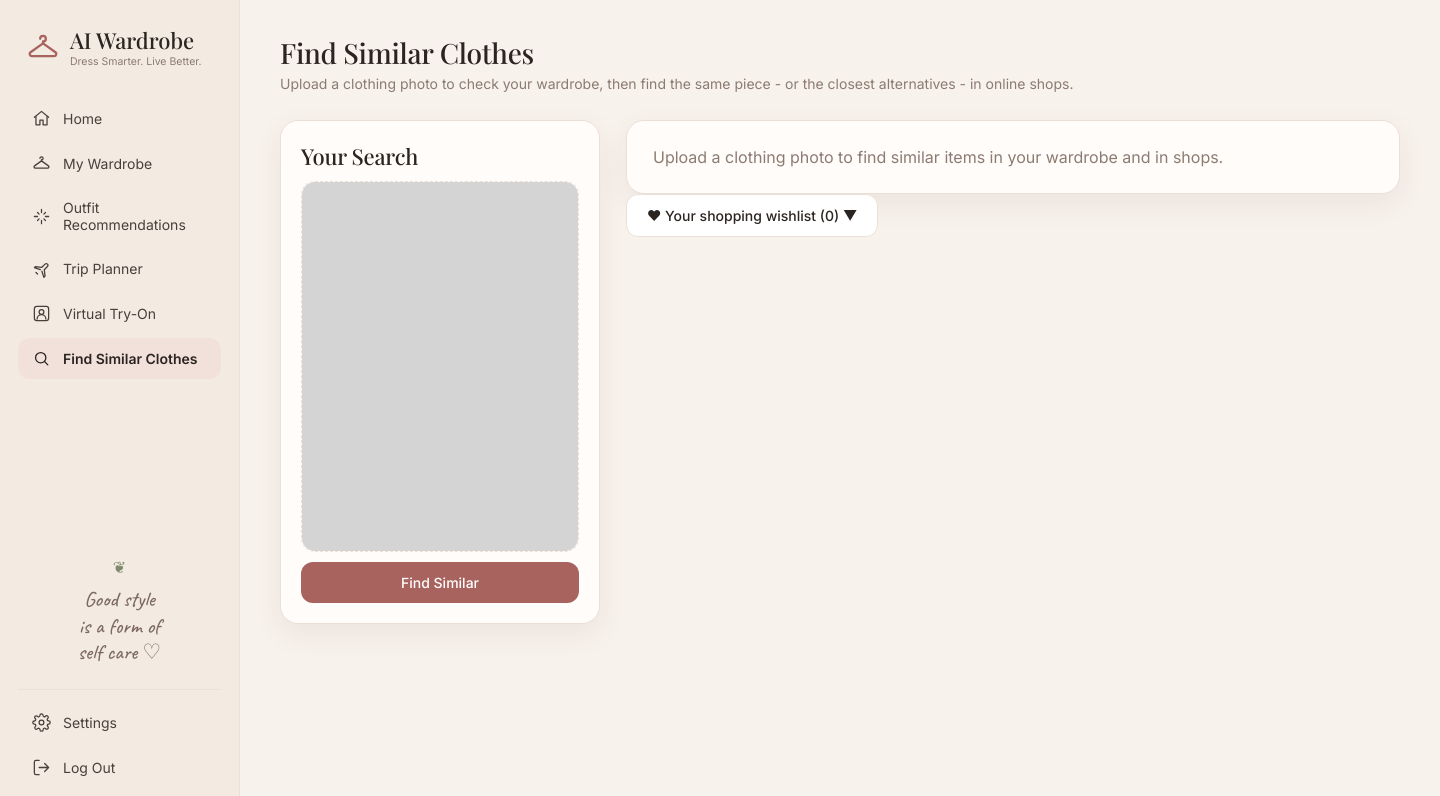
Test: no product search available: shop links instead of fake products
Earlier steps of the test are not shown.
Click the button "Find Similar" at (440, 582), box [301, 562, 579, 603]
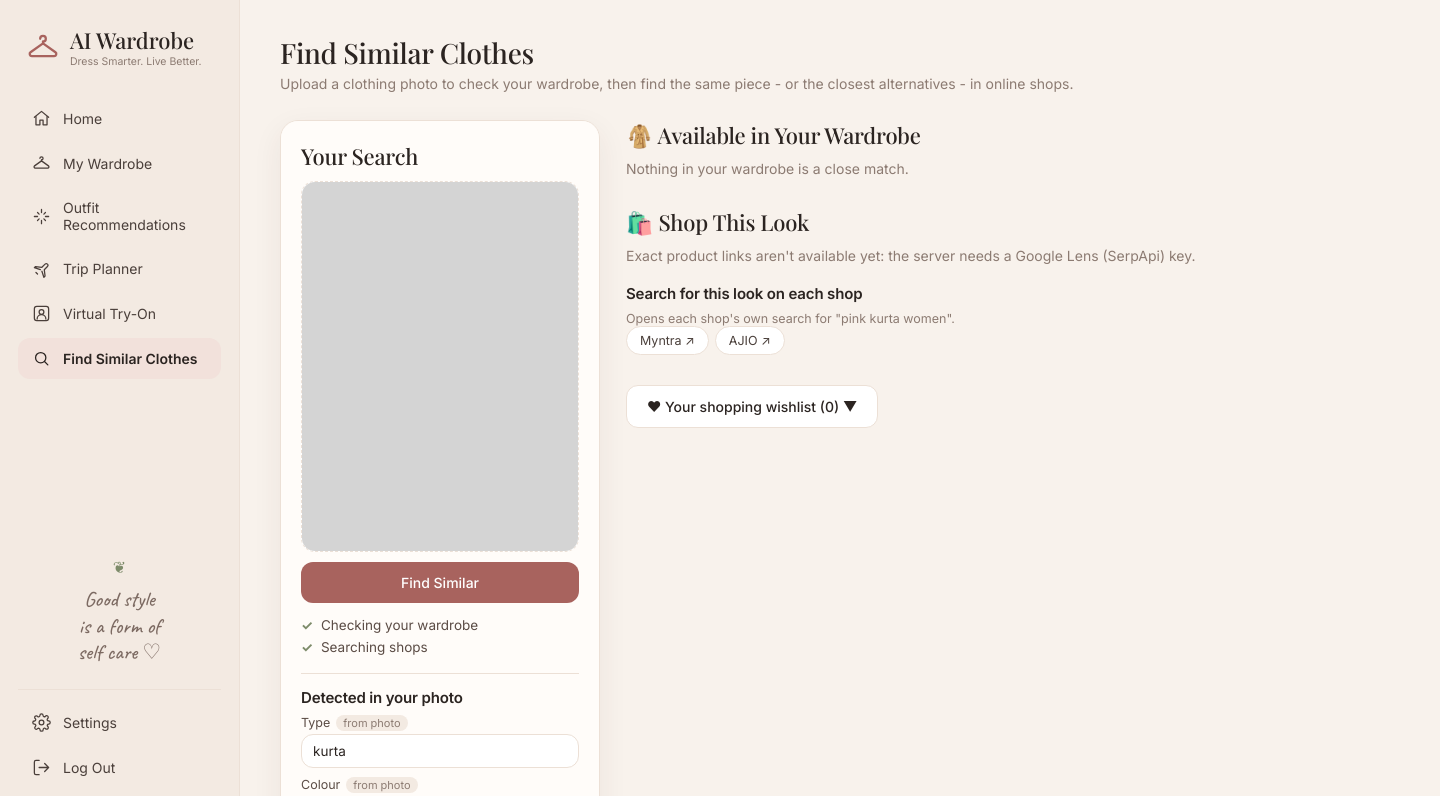
Result: the text "Exact product links aren't available yet" is shown at [626, 247, 1196, 264]
Result: the link "AJIO ↗" is shown at [715, 326, 785, 355]
